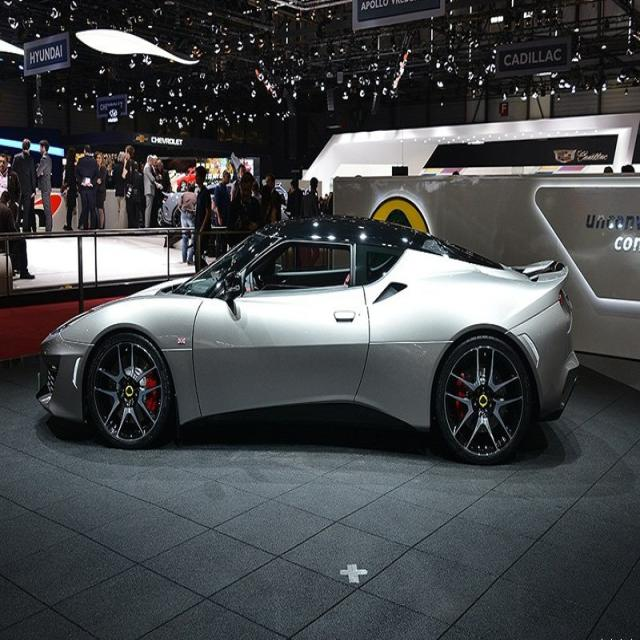front_bumper: (37, 320, 93, 424)
front_left_side_door: (190, 236, 374, 421)
front_left_side_mirror: (215, 269, 246, 308)
rear_bumper: (507, 292, 579, 422)
wheel: (440, 335, 530, 462), (90, 338, 170, 448)
